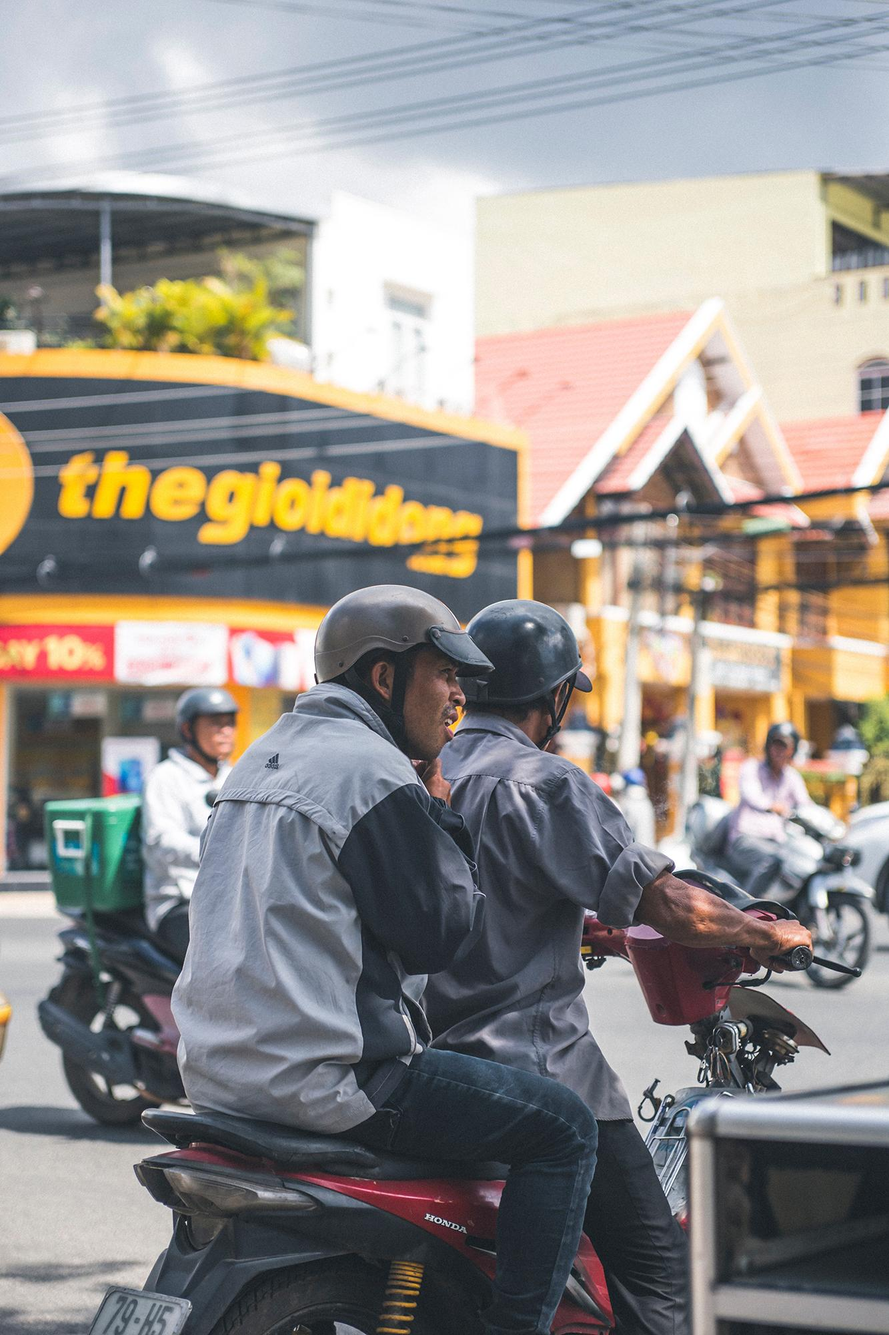helmet: (312, 583, 497, 763), (447, 598, 594, 754)
